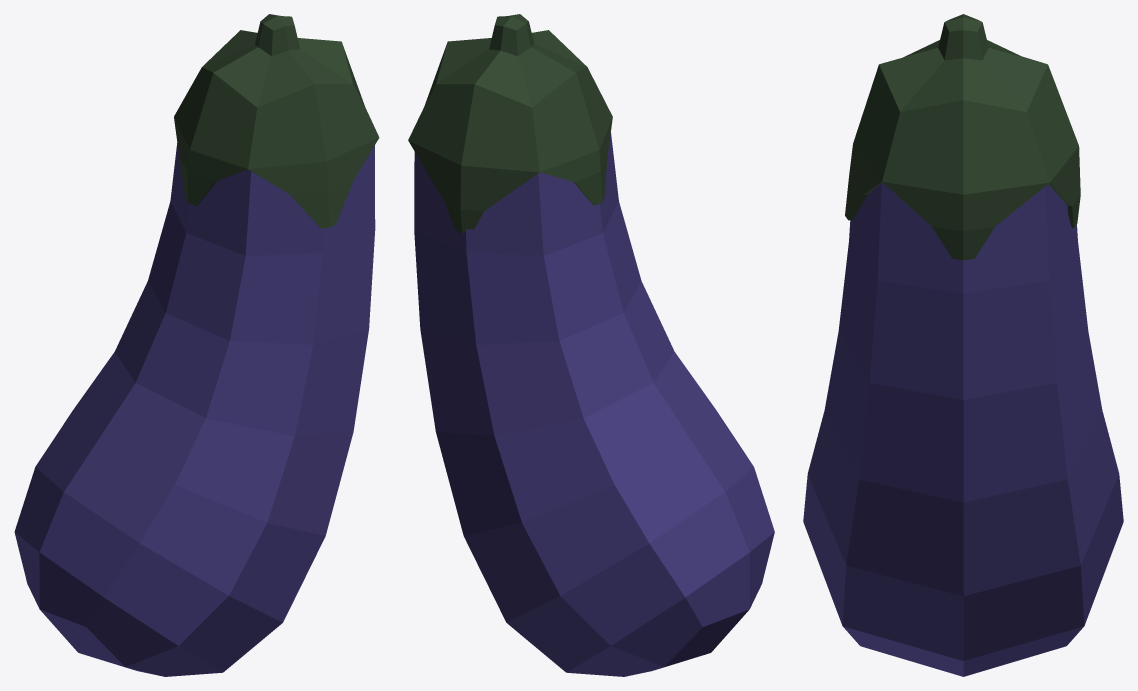
File: Eggplant.glb
3 views of the same model, side by side, from view 1: azimuth 30°, elevation 25°; view 2: azimuth 150°, elevation 25°; view 3: azimuth 270°, elevation 25° (orthographic). The views are drawn at different scales.
Parts seen in each view (by area): view 1: Eggplant; view 2: Eggplant; view 3: Eggplant.
Boxes of the visible parts, box(x1,y1,x2,y2) form: Eggplant: box(14, 14, 379, 676); Eggplant: box(408, 14, 774, 676); Eggplant: box(803, 14, 1123, 676).
Bounding box in the file's own units: 0.1611 × 0.2934 × 0.1202.
